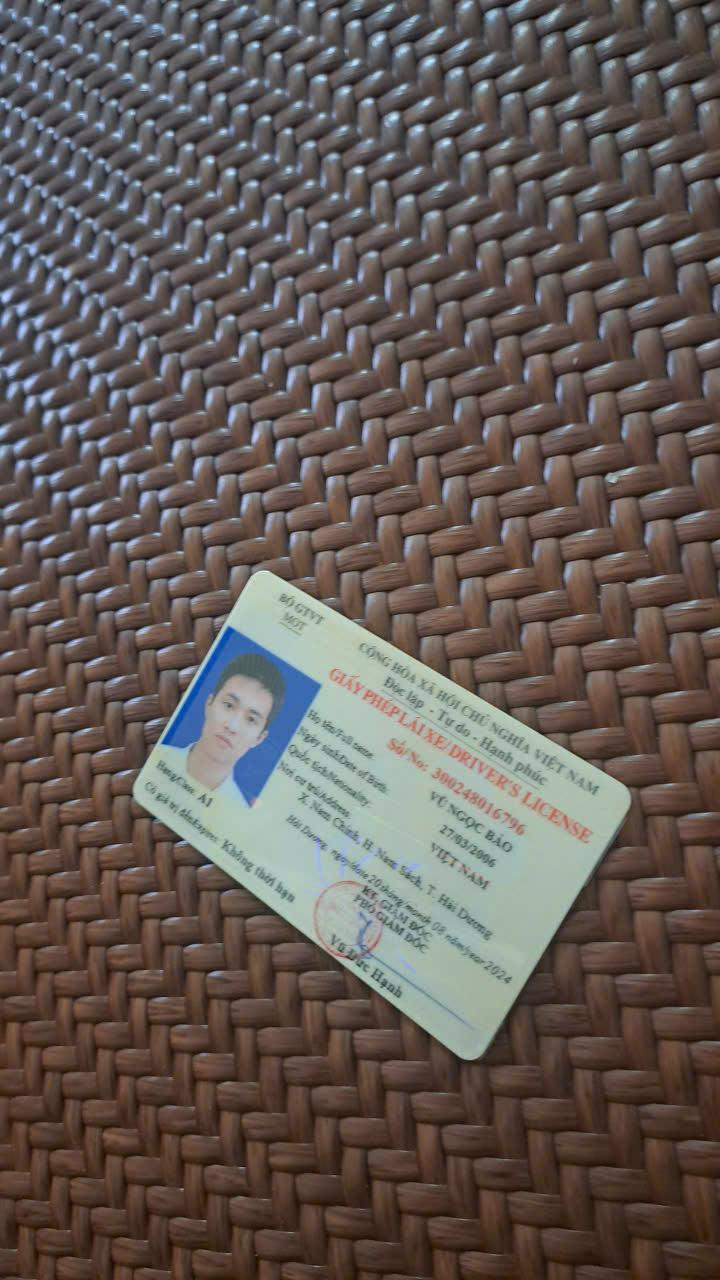gplx: (122, 565, 645, 1078)
